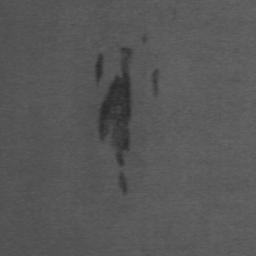Iron scale compression: (99, 47, 132, 168), (94, 53, 103, 87), (118, 171, 128, 196), (150, 69, 159, 96), (141, 31, 147, 45)
